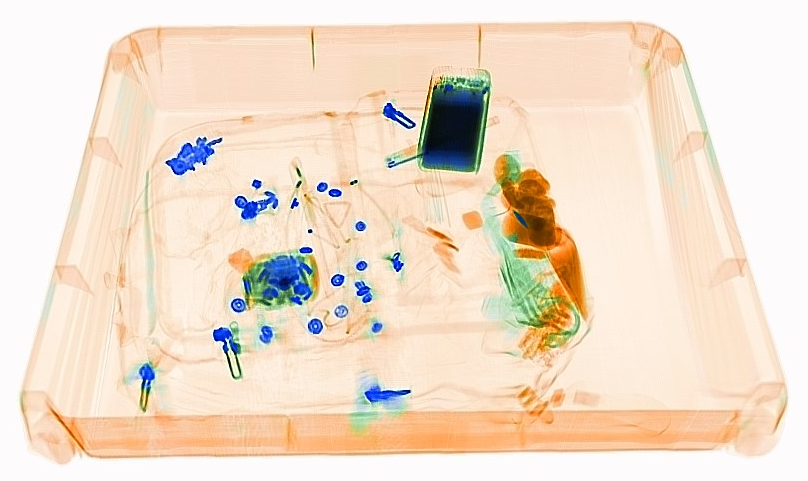PortableBattery: (411, 59, 496, 179)
